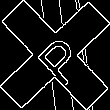P_NW: (24, 24, 86, 86)
